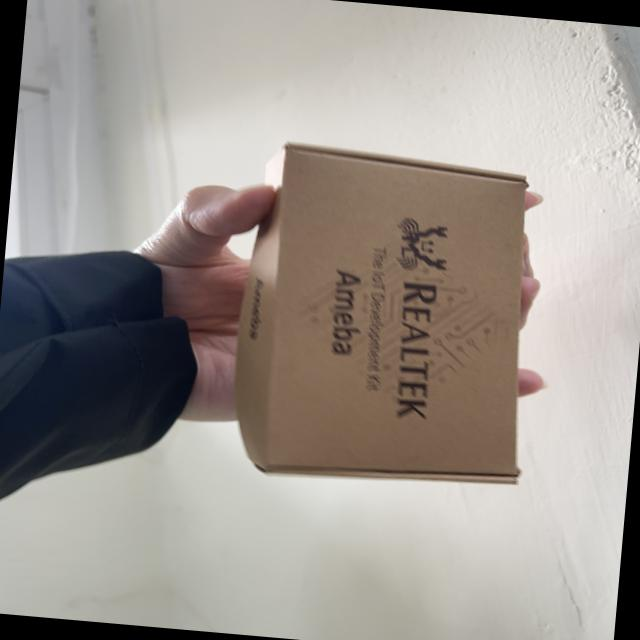box: (204, 124, 576, 530)
